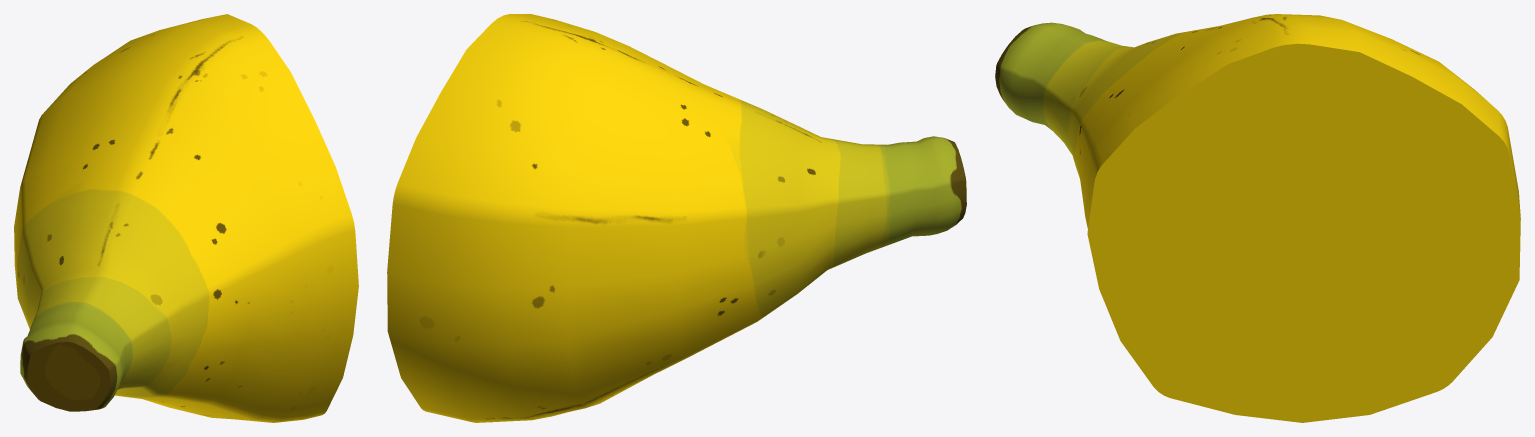
File: top_banana1.fbx
The picture shows the model from 3 angles, left to right: view 1: azimuth 30°, elevation 25°; view 2: azimuth 150°, elevation 25°; view 3: azimuth 270°, elevation 25°; orthographic projection. The views are drawn at different scales.
Visible parts, largest first — view 1: top; view 2: top; view 3: top.
Boxes of the visible parts, <box> form: top: <box>14,14,358,422</box>; top: <box>387,14,966,422</box>; top: <box>995,14,1520,422</box>.
Bounding box in the file's own units: 83.33 × 84.5 × 106.
